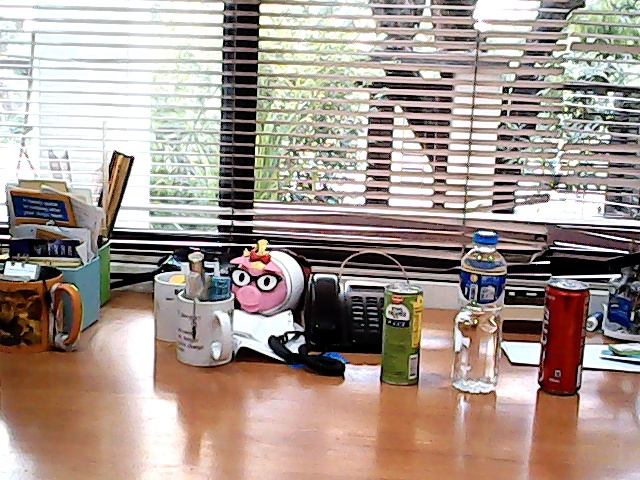Cola: (525, 269, 601, 407)
Pine Juice: (368, 271, 431, 398)
Summit Water: (443, 218, 514, 410)
